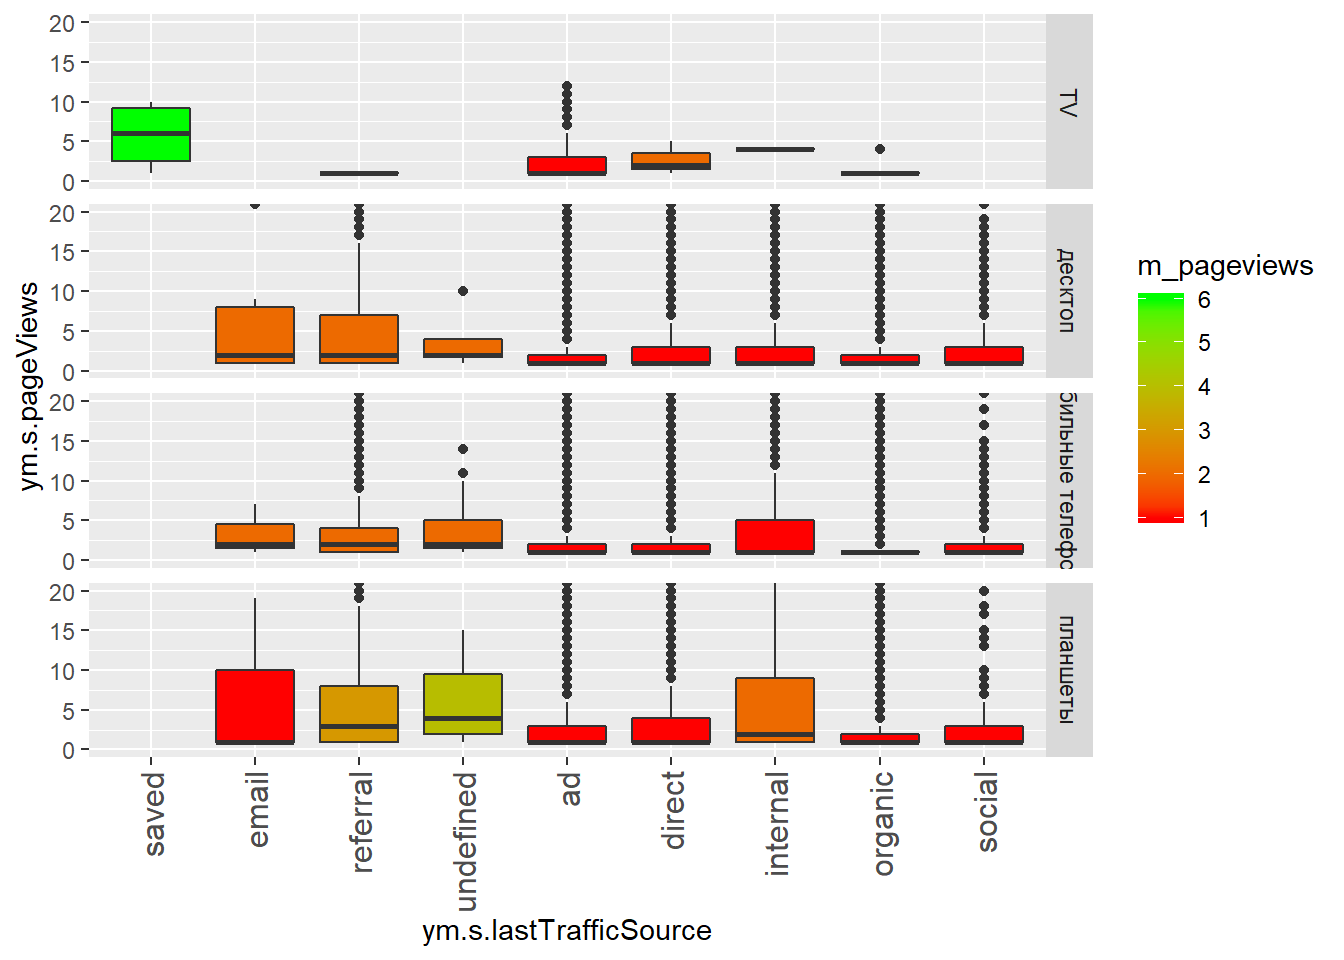

This screenshot's page, from the dashboard's own definition file:
{"tool":"powerbi","page":{"name":"Страница 1","canvas":[1280,720],"ordinal":0},"visuals":[{"type":"scriptVisual","fields":{"Values":["my_data.Id","my_data.user_id","Sum(my_data.Value)"]},"box":[9.7,19.3,945.3,367.6],"z":1}]}

Visuals, with their boxes on the page's 1280x720 design canvas (x1, y1, x2, y2). These are canvas units, not pixel positions in the 1344x960 screenshot, which may show the page scaled, cropped or inside an application window:
scriptVisual - my_data.Id x my_data.user_id: 10 19 955 387
